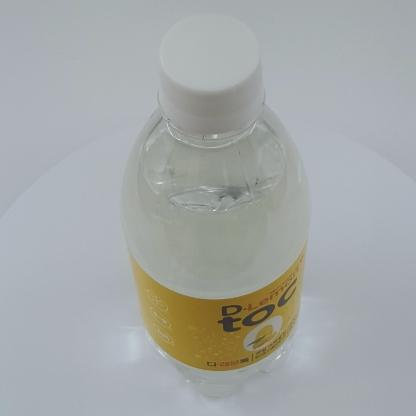------500ML: (122, 14, 311, 396)
